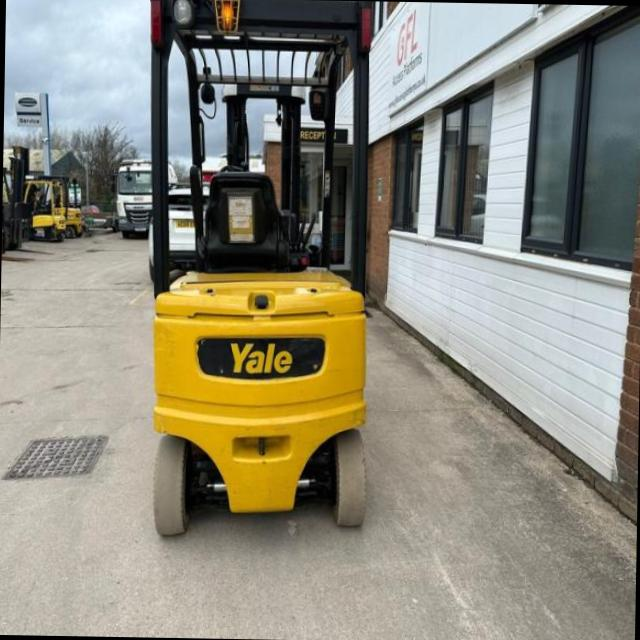forklift: (121, 0, 396, 571)
